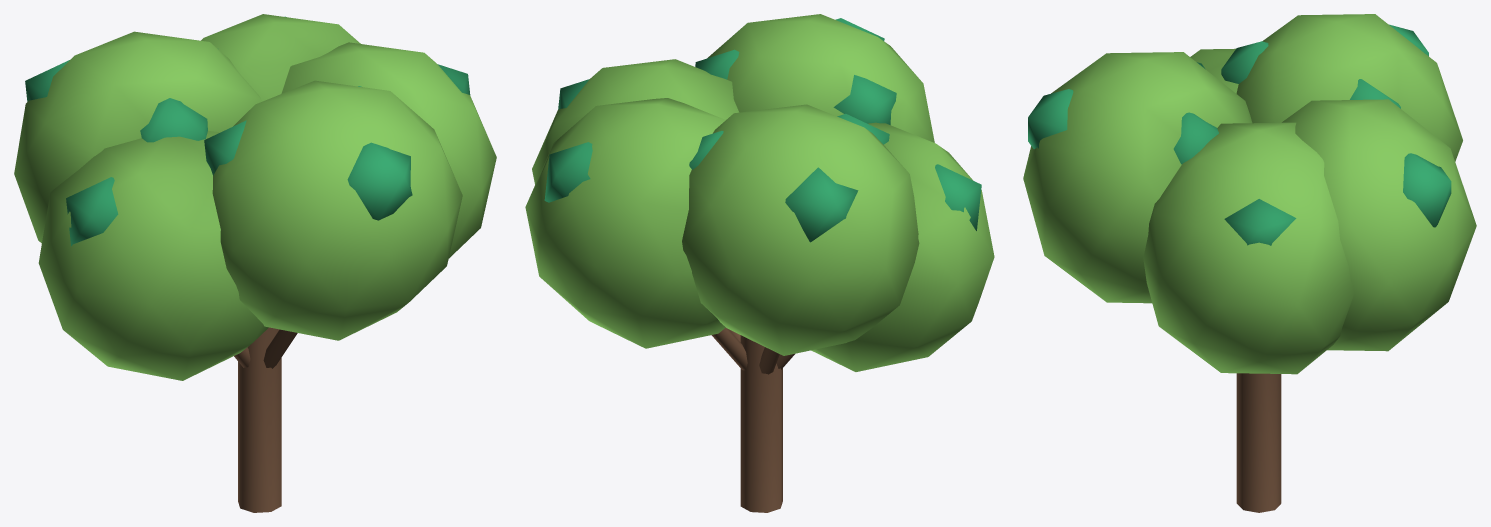
The model's file is tree-rooftop.glb.
3 renders of one model, left to right at view 1: azimuth 30°, elevation 25°; view 2: azimuth 150°, elevation 25°; view 3: azimuth 270°, elevation 25°, orthographic. The views are drawn at different scales.
Parts seen in each view (by area): view 1: compact garden crown, crown surface cluster, tree trunk; view 2: compact garden crown, crown surface cluster, tree trunk; view 3: compact garden crown, crown surface cluster, tree trunk.
Part boxes in pixels (bbox=[...]): compact garden crown: bbox=[14, 14, 496, 380]; crown surface cluster: bbox=[25, 16, 470, 246]; tree trunk: bbox=[234, 327, 297, 512]; compact garden crown: bbox=[525, 14, 994, 371]; crown surface cluster: bbox=[544, 18, 981, 242]; tree trunk: bbox=[711, 328, 794, 512]; compact garden crown: bbox=[1023, 14, 1476, 374]; crown surface cluster: bbox=[1028, 24, 1451, 245]; tree trunk: bbox=[1236, 373, 1281, 512].
Size of the model in its own units: 1.53 by 1.55 by 1.42.
